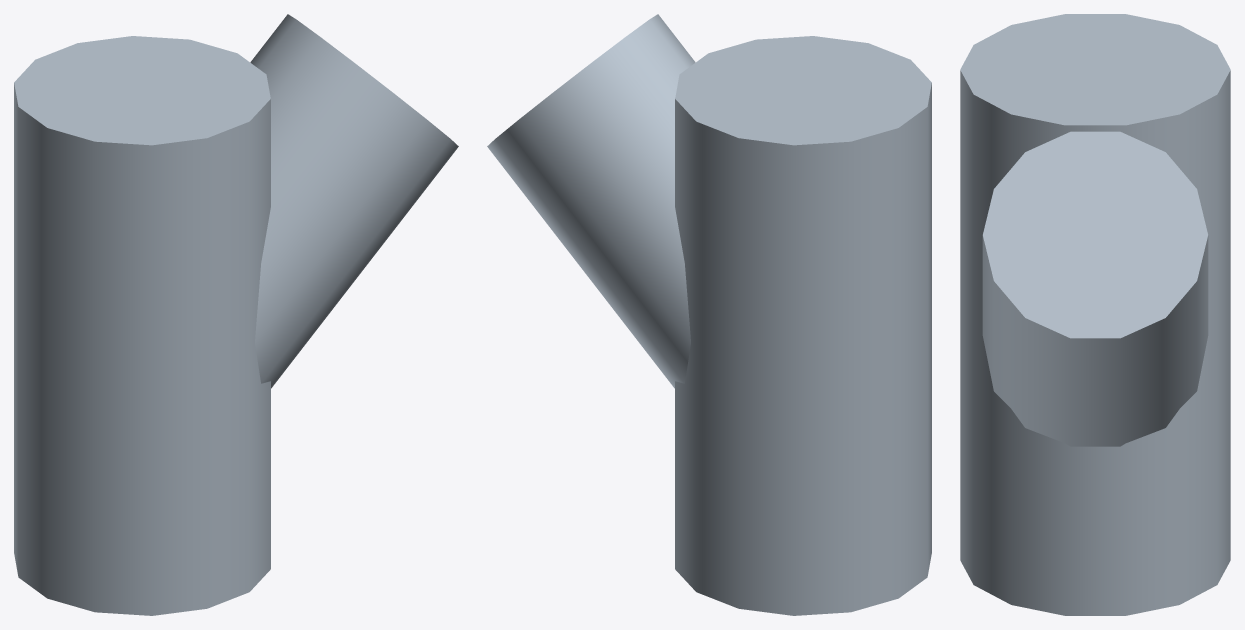
The model's file is fit-round-wye.glb.
3 renders of one model, left to right at view 1: azimuth 30°, elevation 25°; view 2: azimuth 150°, elevation 25°; view 3: azimuth 270°, elevation 25°, orthographic. The views are drawn at different scales.
Parts seen in each view (by area): view 1: hvac-fitting-round-wye-branch; view 2: hvac-fitting-round-wye-branch; view 3: hvac-fitting-round-wye-branch.
Boxes of the visible parts, x1,y1,x2,y2 form: hvac-fitting-round-wye-branch: [14, 14, 458, 615]; hvac-fitting-round-wye-branch: [487, 14, 931, 615]; hvac-fitting-round-wye-branch: [960, 14, 1230, 615].
Bounding box in the file's own units: 0.3243 × 0.3766 × 0.18.
